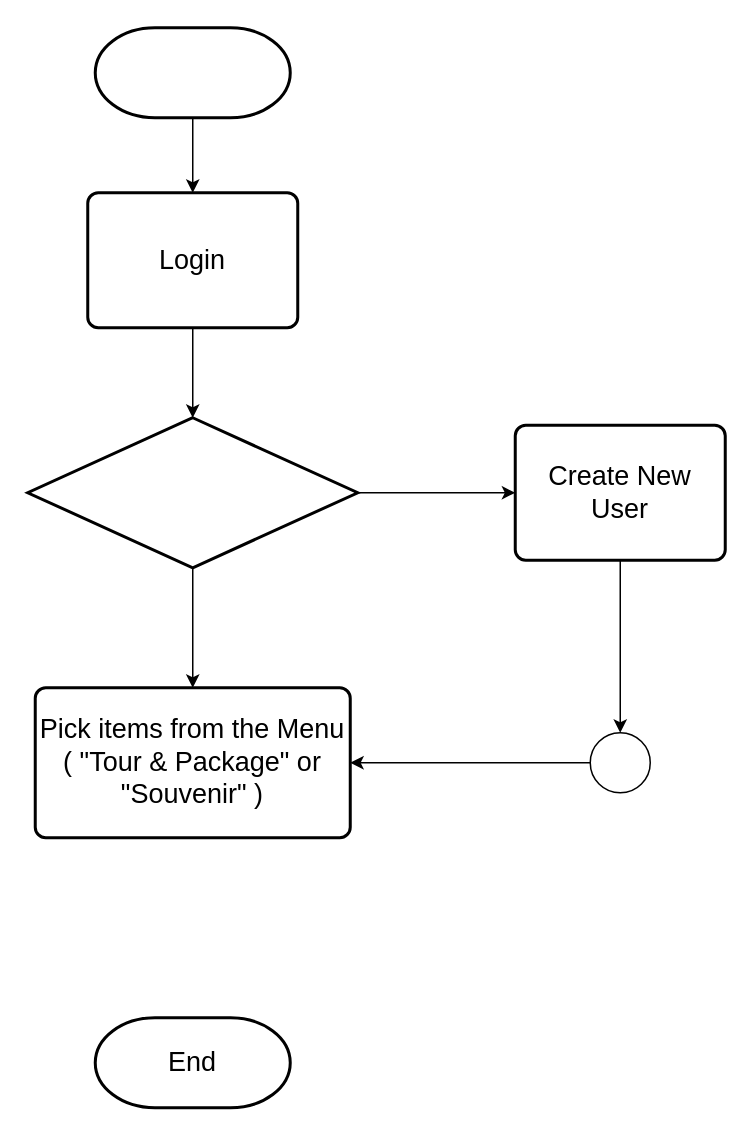
This 752x1134 diagram has some shape labels left out. Each missing label, with the centre of its shape:
"Is in Database?" belongs at point 192,492.
"Start" belongs at point 192,72.
